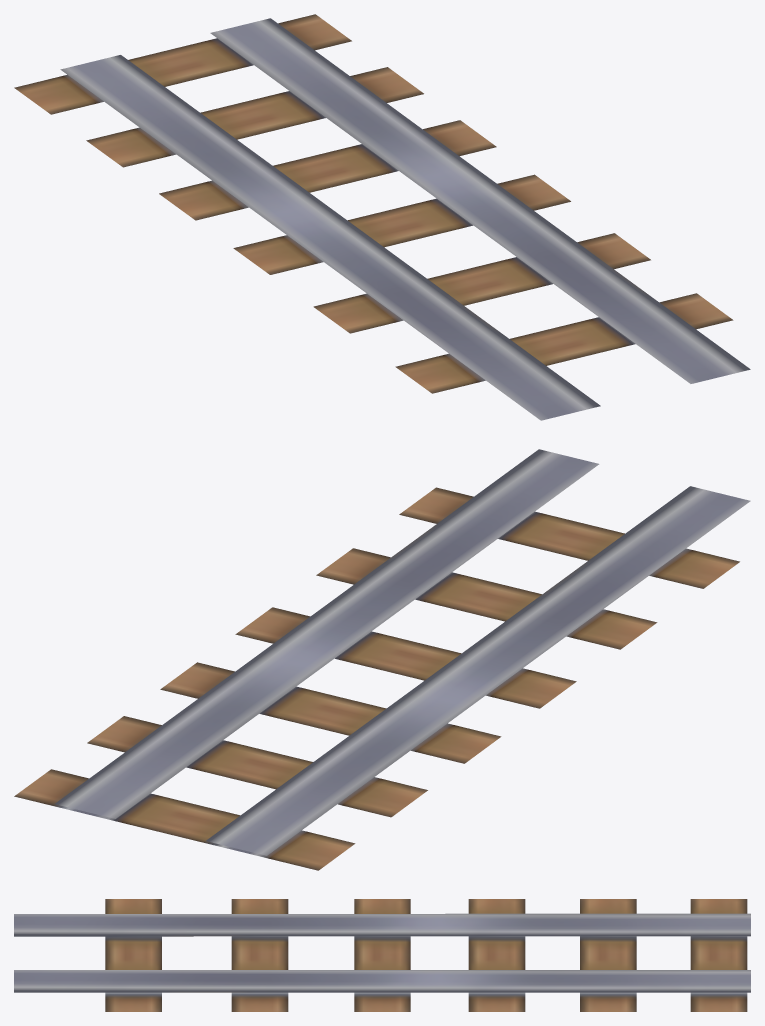
File: field_Buildings_002f.fbx
The picture shows the model from 3 angles, top to bottom: view 1: azimuth 30°, elevation 25°; view 2: azimuth 150°, elevation 25°; view 3: azimuth 270°, elevation 25°; orthographic projection. The views are drawn at different scales.
Parts seen in each view (by area): view 1: field_Buildings_002f; view 2: field_Buildings_002f; view 3: field_Buildings_002f.
Part boxes in pixels (box(x1,y1,x2,y2)): field_Buildings_002f: box(14, 14, 750, 420); field_Buildings_002f: box(14, 449, 750, 870); field_Buildings_002f: box(14, 899, 750, 1011).
Bounding box in the file's own units: 36.43 × 0.5308 × 100.
